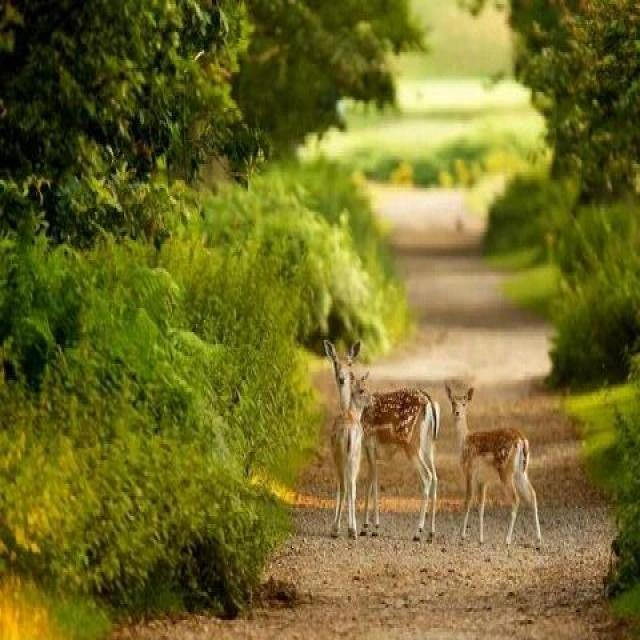deer: (240, 282, 444, 501), (432, 373, 566, 546), (306, 334, 402, 498)
